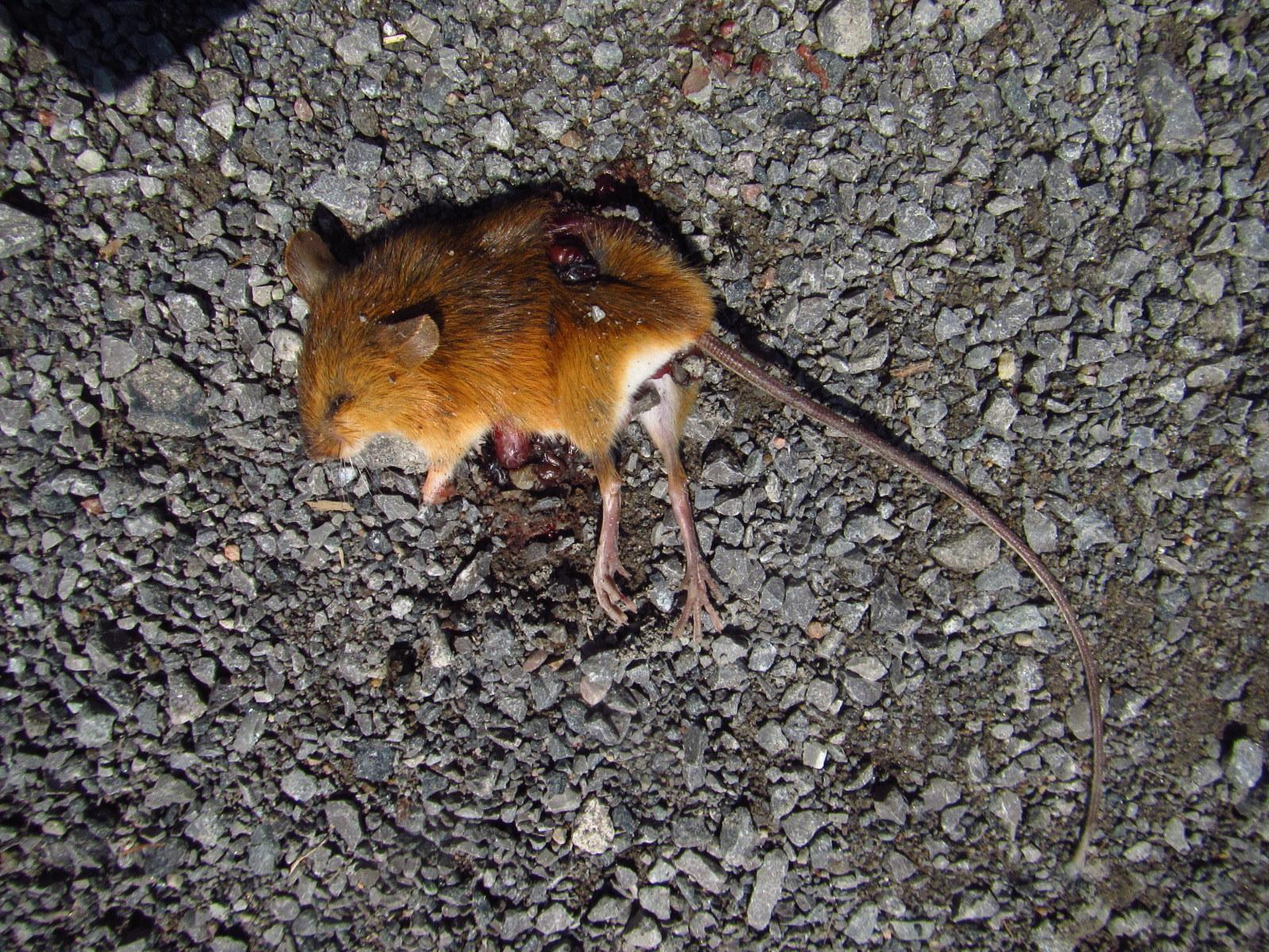rat: (280, 190, 1103, 875)
